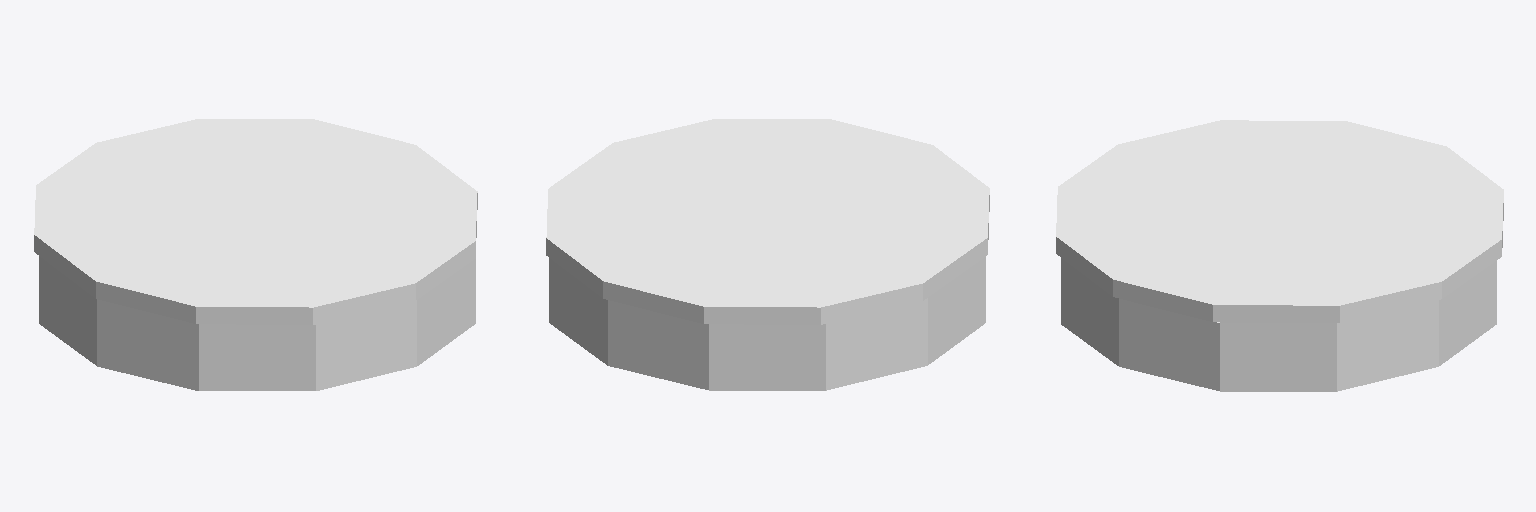
File: prototipo.obj
3 renders of one model, left to right at view 1: azimuth 30°, elevation 25°; view 2: azimuth 150°, elevation 25°; view 3: azimuth 270°, elevation 25°, orthographic.
Parts seen in each view (by area): view 1: Mesh1 Group1 Model, Mesh3 Model, Mesh2 Group2 Model; view 2: Mesh1 Group1 Model, Mesh3 Model, Mesh2 Group2 Model; view 3: Mesh1 Group1 Model, Mesh3 Model, Mesh2 Group2 Model.
Part boxes in pixels (left/top/right/bottom): Mesh1 Group1 Model: left=34, top=119, right=472, bottom=303; Mesh3 Model: left=39, top=256, right=475, bottom=390; Mesh2 Group2 Model: left=39, top=123, right=477, bottom=324; Mesh1 Group1 Model: left=546, top=122, right=983, bottom=324; Mesh3 Model: left=549, top=257, right=985, bottom=390; Mesh2 Group2 Model: left=551, top=119, right=989, bottom=292; Mesh1 Group1 Model: left=1065, top=120, right=1503, bottom=322; Mesh3 Model: left=1061, top=258, right=1496, bottom=391; Mesh2 Group2 Model: left=1056, top=120, right=1494, bottom=322.
Size of the model in its own units: 111 by 23.86 by 113.